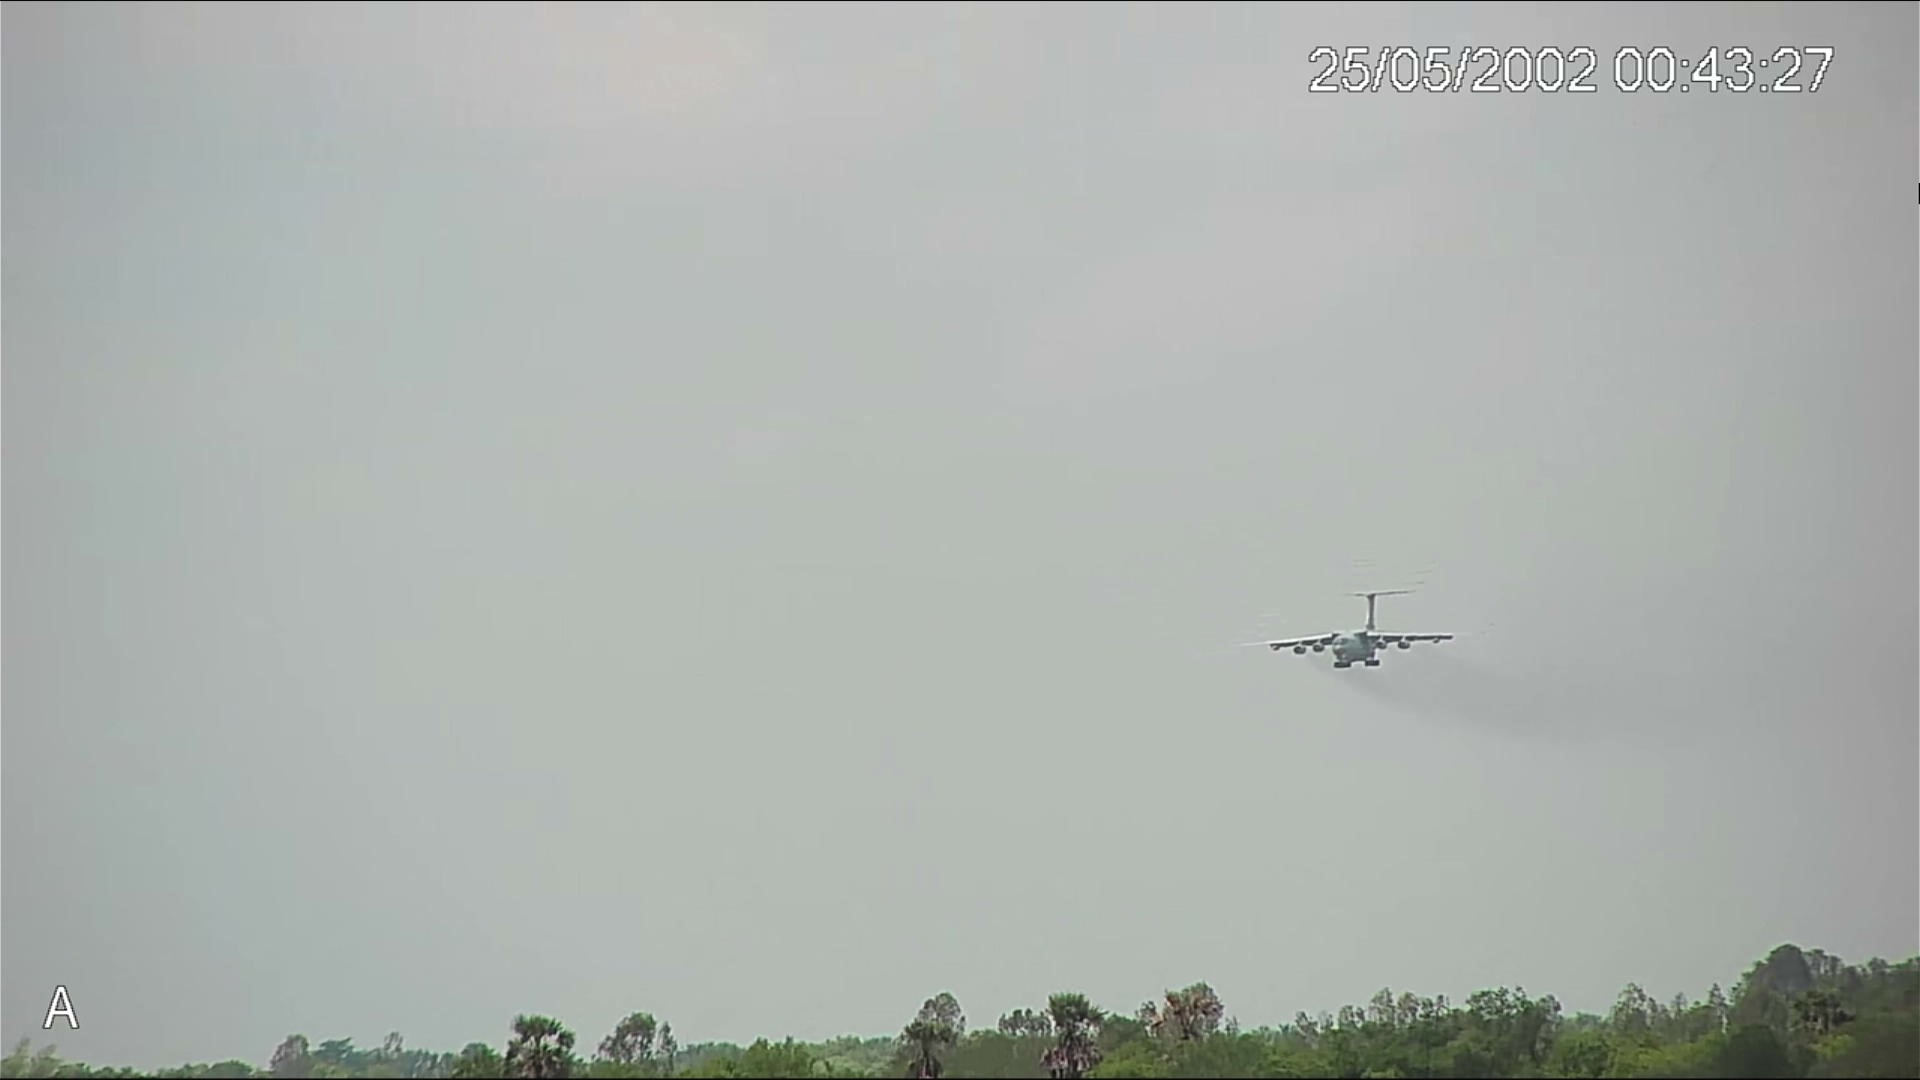SU_30: (1240, 587, 1466, 670)
